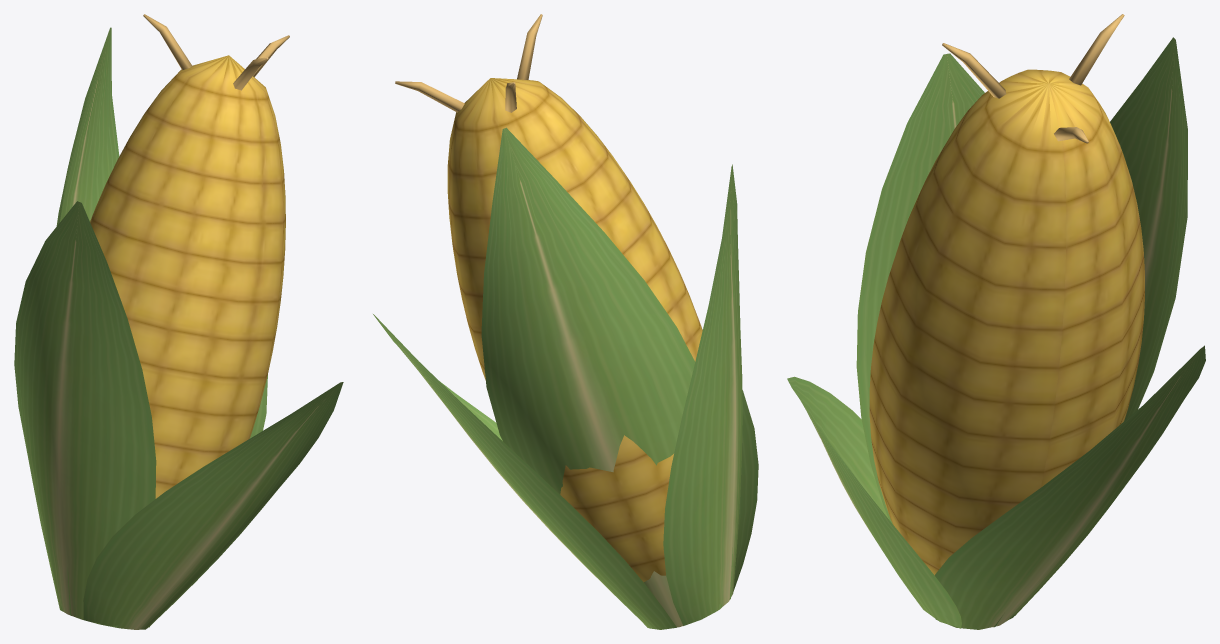
3 views of the same model, side by side, from view 1: azimuth 30°, elevation 25°; view 2: azimuth 150°, elevation 25°; view 3: azimuth 270°, elevation 25° (orthographic). The views are drawn at different scales.
Parts seen in each view (by area): view 1: corn; view 2: corn; view 3: corn.
Boxes of the visible parts, x1,y1,x2,y2 form: corn: [14, 14, 343, 629]; corn: [373, 14, 758, 629]; corn: [787, 14, 1205, 629].
Bounding box in the file's own units: 0.1392 × 0.255 × 0.1477.
1 material, 1 textured.
